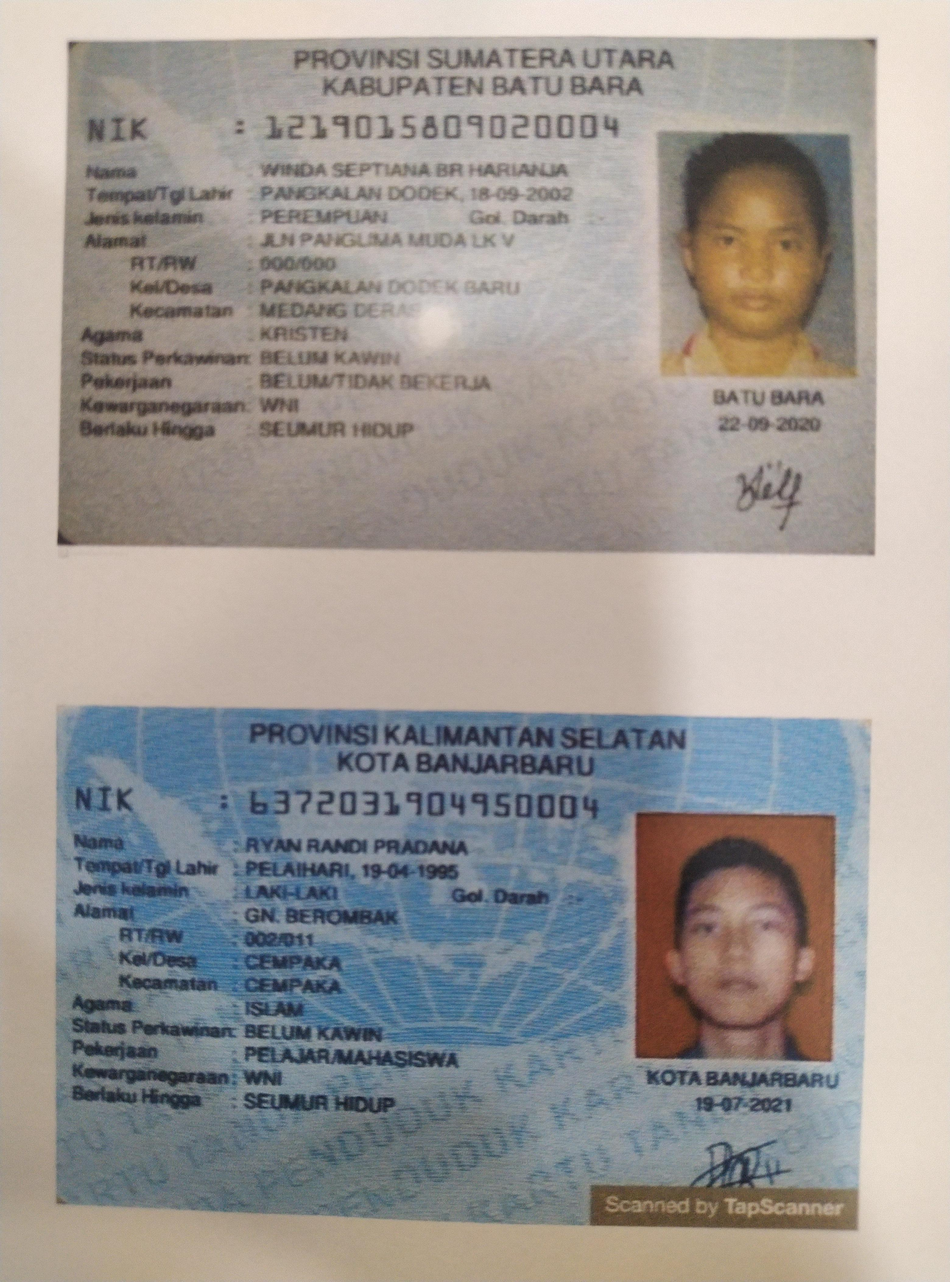ktp: (56, 45, 880, 552), (50, 708, 866, 1215)
